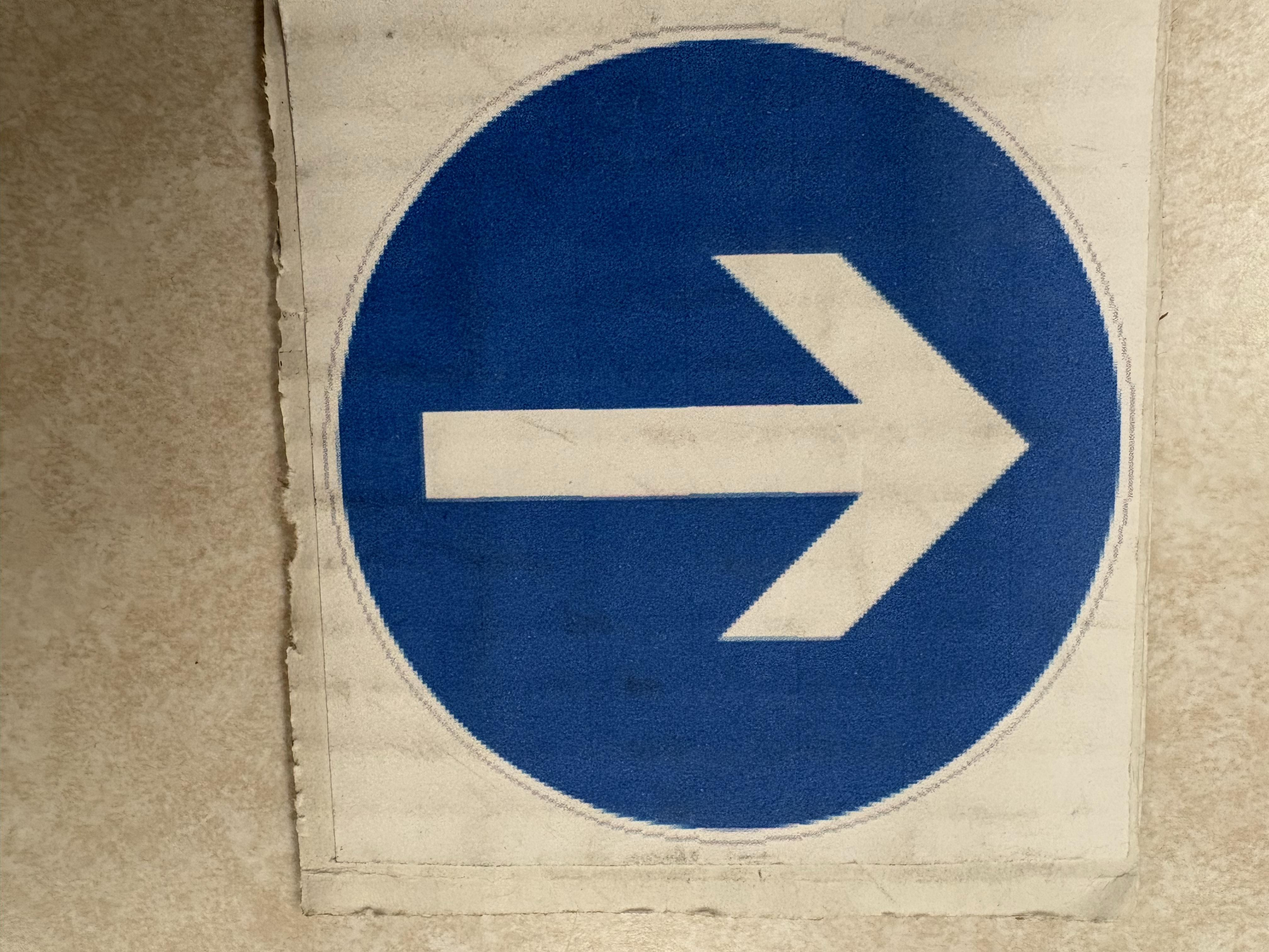Proceed Right: (258, 5, 1155, 926)
